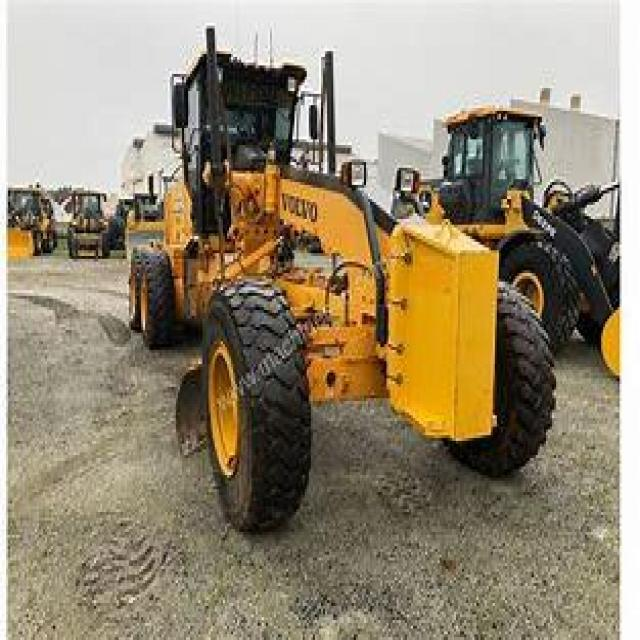Grader: (92, 23, 562, 529)
